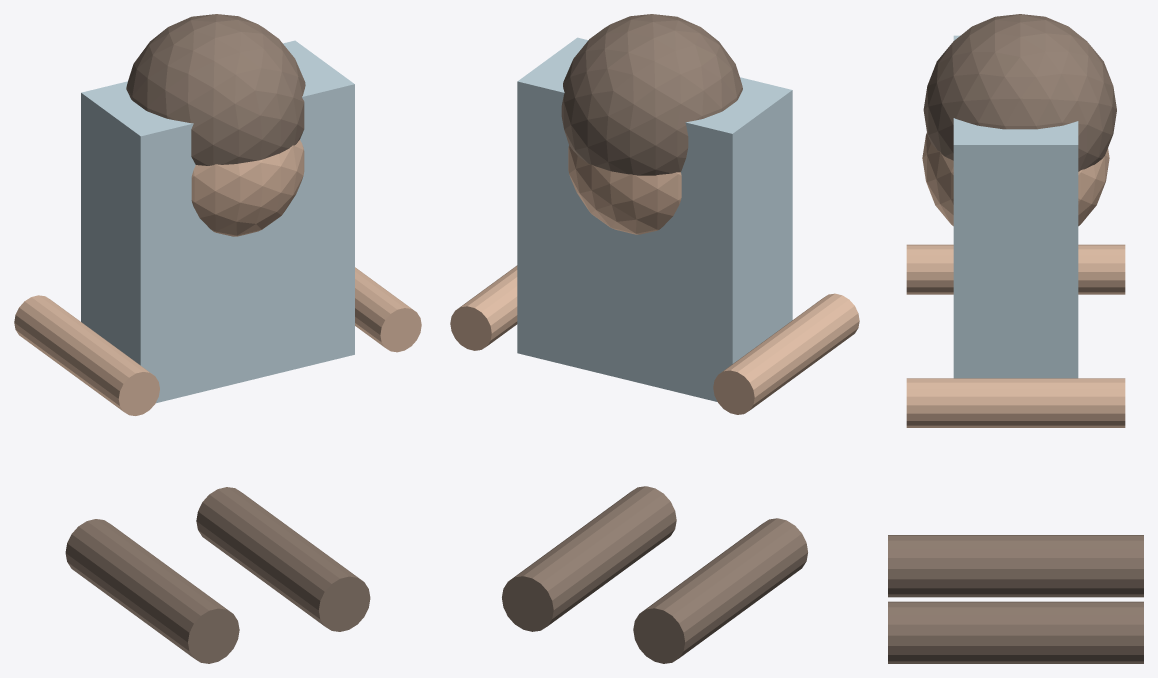
File: sim_child_soft.glb
3 renders of one model, left to right at view 1: azimuth 30°, elevation 25°; view 2: azimuth 150°, elevation 25°; view 3: azimuth 270°, elevation 25°, orthographic. The views are drawn at different scales.
Parts seen in each view (by area): view 1: part_00, part_06, part_02, part_03, part_04, part_01, part_05; view 2: part_00, part_06, part_02, part_03, part_04, part_01, part_05; view 3: part_00, part_06, part_02, part_03, part_05, part_04, part_01.
Boxes of the visible parts, left/top/right/bottom form: part_00: left=81, top=40, right=354, bottom=403; part_06: left=126, top=14, right=305, bottom=165; part_02: left=65, top=519, right=239, bottom=663; part_03: left=196, top=487, right=370, bottom=631; part_04: left=14, top=295, right=159, bottom=415; part_01: left=191, top=140, right=304, bottom=236; part_05: left=355, top=267, right=421, bottom=352; part_00: left=517, top=37, right=792, bottom=401; part_06: left=561, top=14, right=742, bottom=175; part_02: left=633, top=518, right=807, bottom=663; part_03: left=502, top=486, right=676, bottom=631; part_04: left=713, top=293, right=859, bottom=414; part_01: left=568, top=145, right=681, bottom=234; part_05: left=450, top=265, right=517, bottom=350; part_00: left=953, top=35, right=1078, bottom=378; part_06: left=923, top=14, right=1116, bottom=171; part_02: left=888, top=535, right=1143, bottom=597; part_03: left=888, top=601, right=1143, bottom=663; part_05: left=906, top=378, right=1125, bottom=427; part_04: left=906, top=244, right=1125, bottom=294; part_01: left=922, top=133, right=1109, bottom=226.
Bounding box in the file's own units: 0.8438 × 1.54 × 0.5904.
